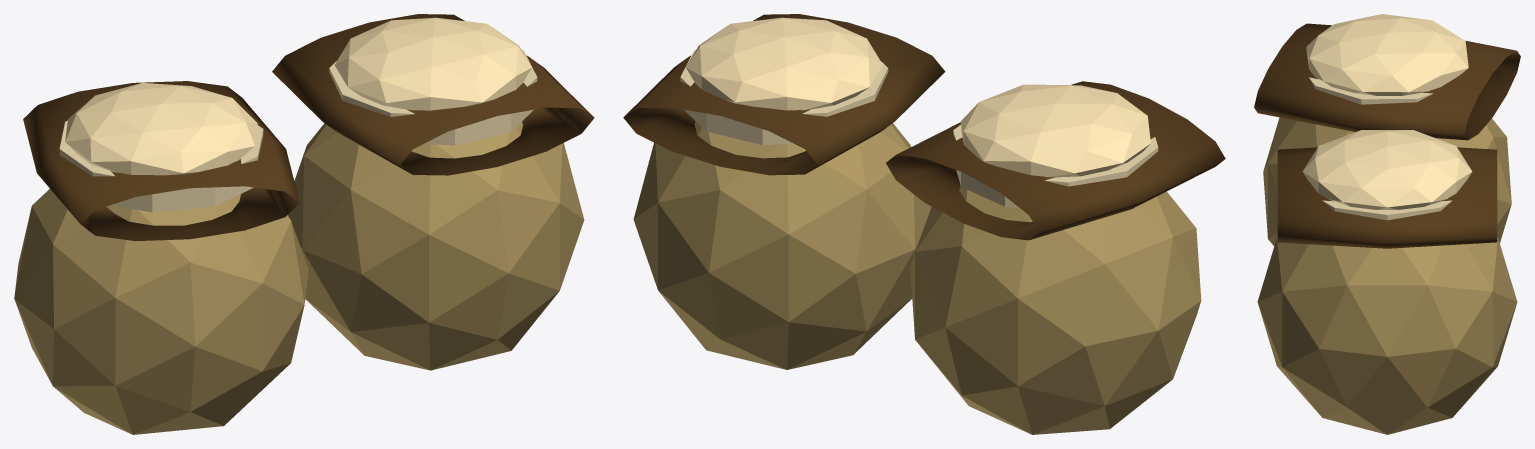
Rendered from pile-flour-2.obj.
3 renders of one model, left to right at view 1: azimuth 30°, elevation 25°; view 2: azimuth 150°, elevation 25°; view 3: azimuth 270°, elevation 25°, orthographic. The views are drawn at different scales.
Visible parts, largest first — view 1: pile-flour-2; view 2: pile-flour-2; view 3: pile-flour-2.
Part boxes in pixels (<box>): pile-flour-2: <box>14,14,594,434</box>; pile-flour-2: <box>623,14,1225,434</box>; pile-flour-2: <box>1254,14,1520,434</box>.
Bounding box in the file's own units: 0.5257 × 0.3065 × 0.267.
Materials: 1 (1 with a texture image).
